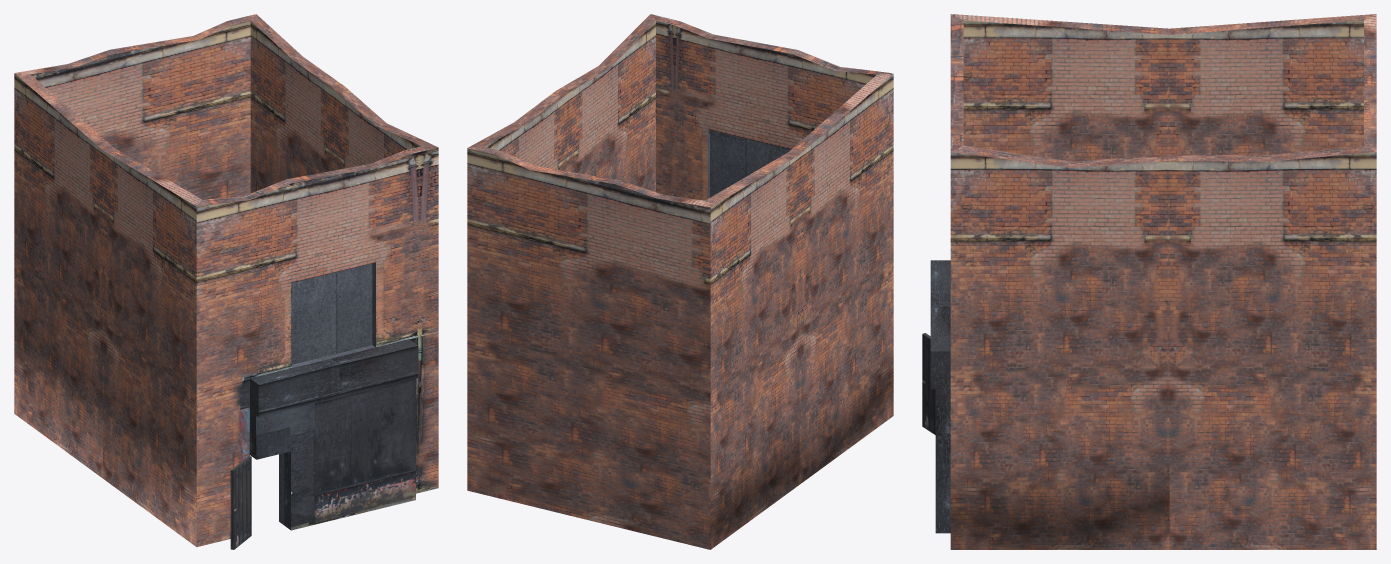
Rendered from building7.obj.
The picture shows the model from 3 angles, left to right: view 1: azimuth 30°, elevation 25°; view 2: azimuth 150°, elevation 25°; view 3: azimuth 270°, elevation 25°; orthographic projection. The views are drawn at different scales.
Visible parts, largest first — view 1: def_surf_mat; view 2: def_surf_mat; view 3: def_surf_mat.
Boxes of the visible parts, <box> form: def_surf_mat: <box>14,14,438,549</box>; def_surf_mat: <box>467,14,893,549</box>; def_surf_mat: <box>922,14,1376,549</box>.
Bounding box in the file's own units: 262 × 352 × 364.
Materials: 1 (1 with a texture image).
